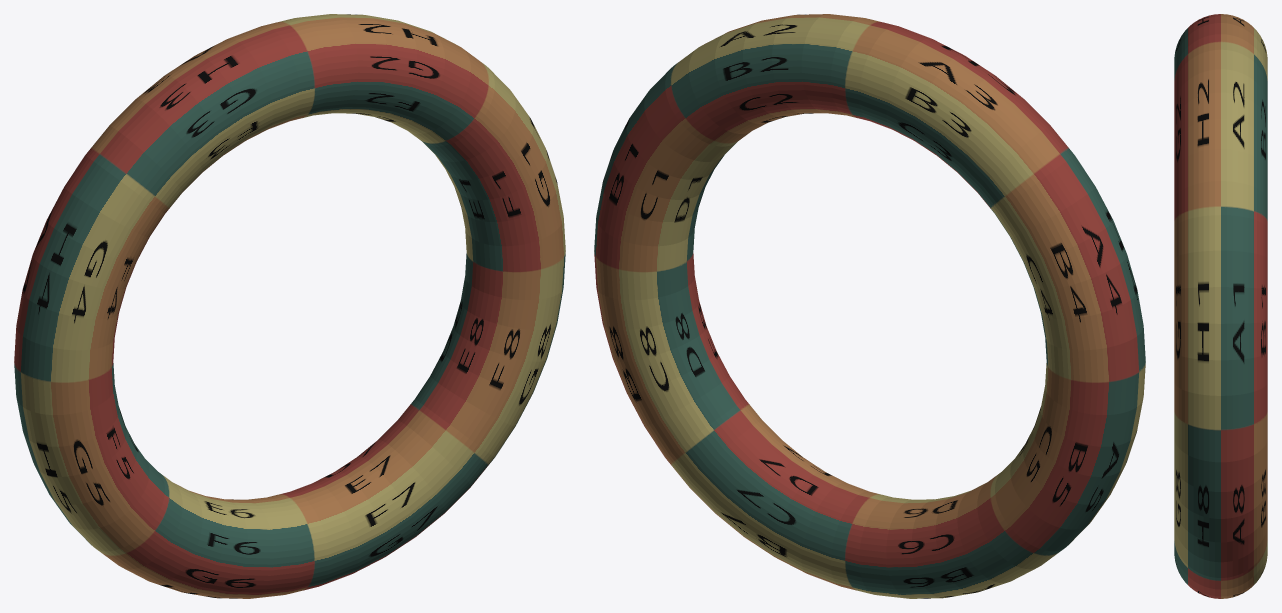
File: texture_torus_R5_r2.glb
3 renders of one model, left to right at view 1: azimuth 30°, elevation 25°; view 2: azimuth 150°, elevation 25°; view 3: azimuth 270°, elevation 25°, orthographic. The views are drawn at different scales.
Visible parts, largest first — view 1: world; view 2: world; view 3: world.
Boxes of the visible parts, left/top/right/bottom form: world: left=14, top=14, right=565, bottom=598; world: left=594, top=14, right=1145, bottom=598; world: left=1174, top=14, right=1267, bottom=598.
Size of the model in its own units: 15.87 by 15.84 by 2.53.
1 material, 1 textured.
